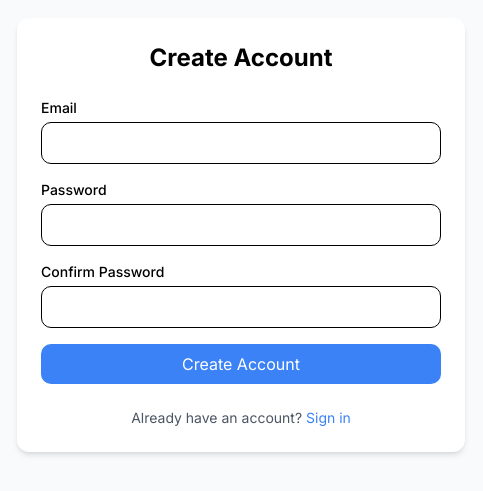
SignUpPage › shows error when passwords do not match
Type "test@example.com" into the field labelled "Email" at {"x": 241, "y": 143}, box top-left (41, 122), bottom-right (441, 164)
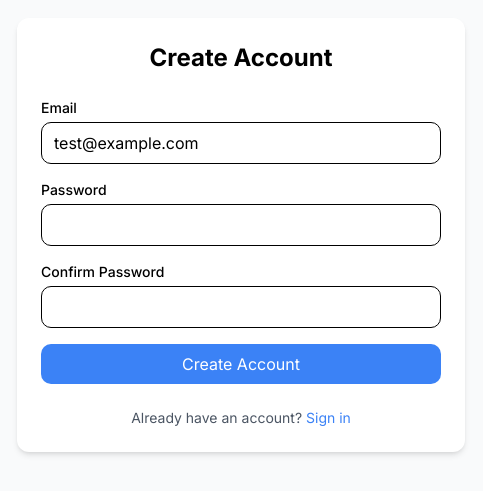
Type "password123" into the password field labelled "Password" at {"x": 241, "y": 225}, box top-left (41, 204), bottom-right (441, 246)
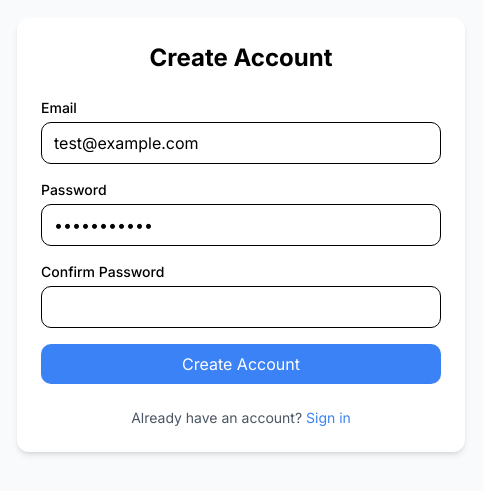
Type "differentpassword" into the password field labelled "Confirm Password" at {"x": 241, "y": 307}, box top-left (41, 286), bottom-right (441, 328)
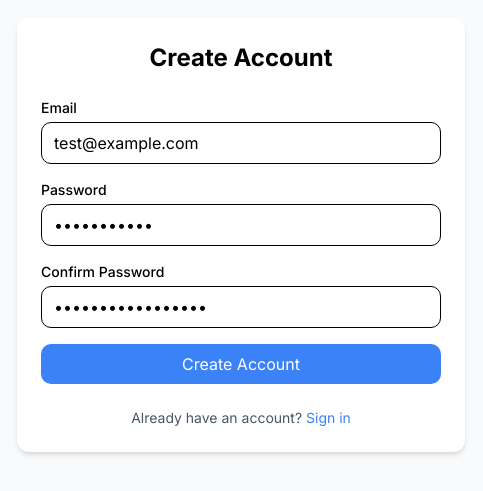
Submit the form from the button "Create Account", box top-left (41, 344), bottom-right (441, 384)
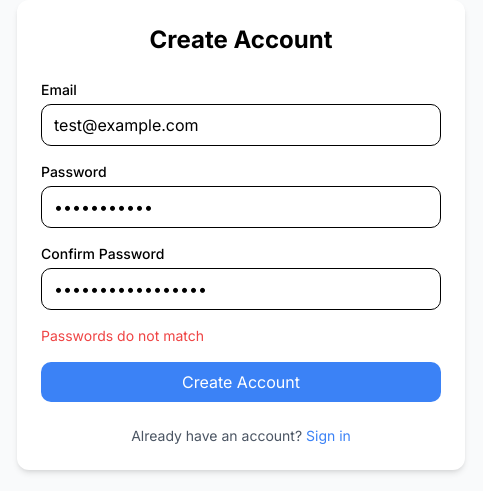
Result: the text "Passwords do not match" is shown at top-left (41, 327), bottom-right (204, 344)
